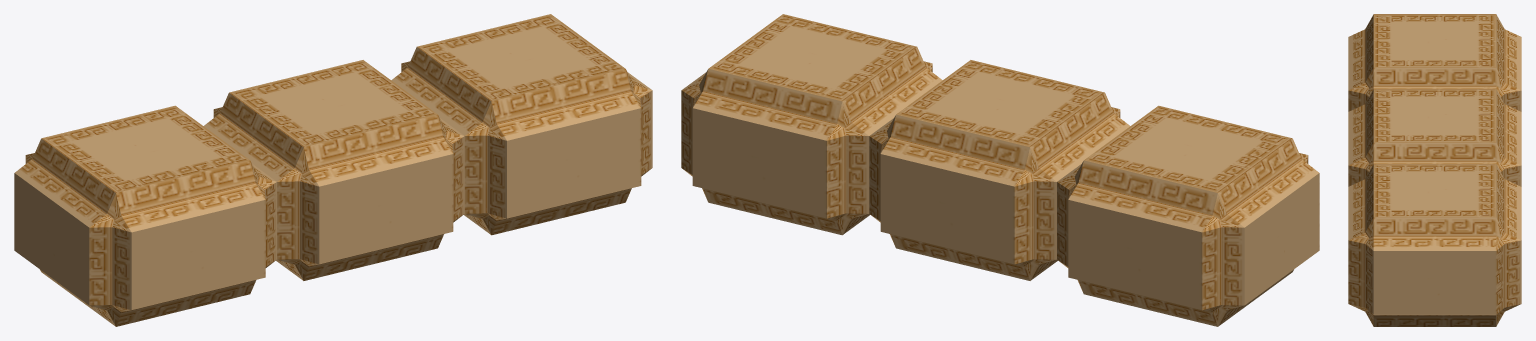
Rendered from correcaocaixa.fbx.
The picture shows the model from 3 angles, left to right: view 1: azimuth 30°, elevation 25°; view 2: azimuth 150°, elevation 25°; view 3: azimuth 270°, elevation 25°; orthographic projection. The views are drawn at different scales.
Visible parts, largest first — view 1: lateralpequena; view 2: lateralpequena; view 3: lateralpequena.
Part boxes in pixels (box(x1,y1,x2,y2)): lateralpequena: box(14, 14, 652, 326); lateralpequena: box(681, 14, 1319, 326); lateralpequena: box(1348, 14, 1521, 326).
Bounding box in the file's own units: 420 × 95.48 × 137.
